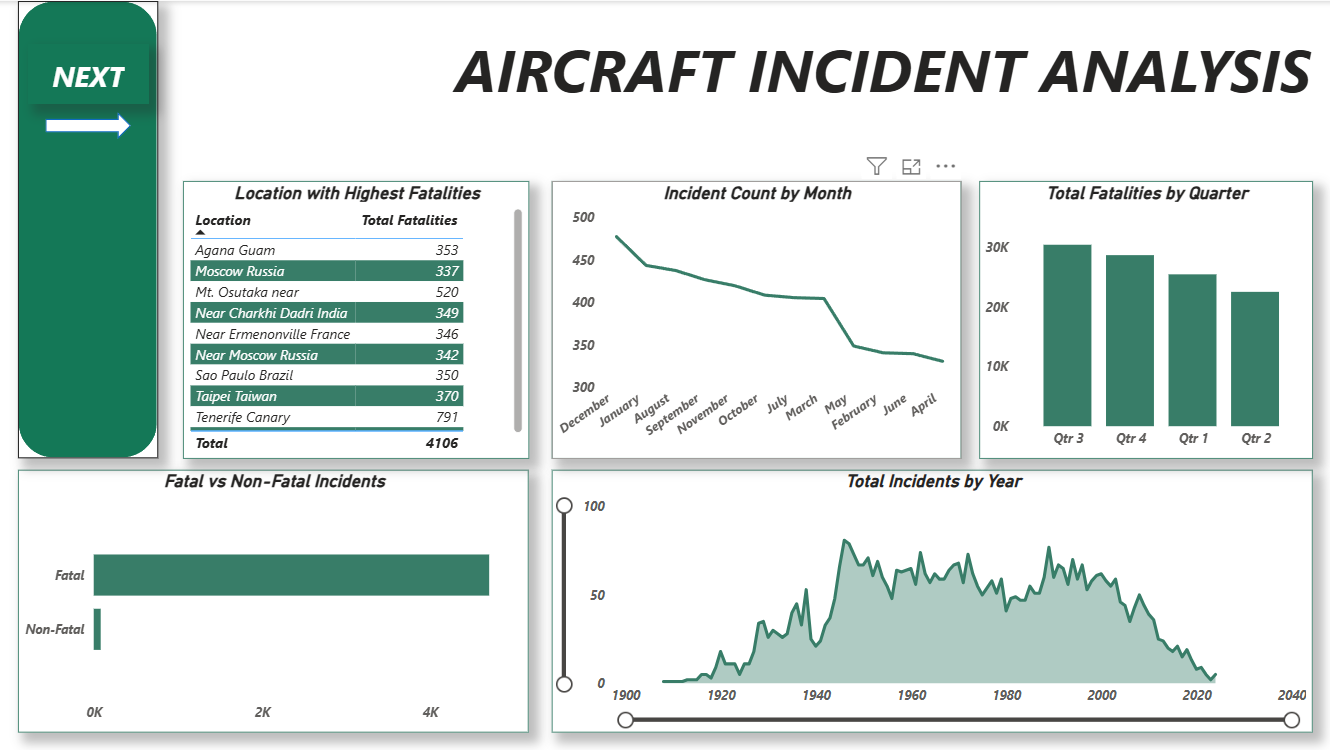

The page's visual inventory and layout, read from the dashboard file:
{"tool":"powerbi","page":{"name":"Dashboard 1","canvas":[1280,720],"ordinal":0},"visuals":[{"type":"lineChart","fields":{"Category":["air_crashes aircraft_incidents.Year"],"Y":["Aircraft_Incidents.Total Incidents"]},"box":[530.9,448.9,729.8,252.1],"z":0},{"type":"lineChart","fields":{"Y":["Aircraft_Incidents.Incident Count"],"Category":["Aircraft_Incidents.Month"]},"box":[530.9,172.2,392.6,266.5],"z":1000},{"type":"columnChart","fields":{"Category":["Aircraft_Incidents.Quarter"],"Y":["Aircraft_Incidents.Total Fatalities"]},"box":[940.9,172.2,319.8,266.5],"z":2000},{"type":"barChart","title":"Fatal vs Non-Fatal Incidents","fields":{"Category":["Aircraft_Incidents.Incident_Type"],"Y":["Aircraft_Incidents.Incident Count"]},"box":[19.5,448.9,489.9,252.1],"z":3000},{"type":"textbox","box":[417.2,21.5,863,97.4],"z":4000},{"type":"tableEx","title":"Location with Highest Fatalities","fields":{"Values":["Aircraft_Incidents.Location","Aircraft_Incidents.Total Fatalities"]},"box":[177.3,172.2,332.1,266.5],"z":5000},{"type":"shape","box":[19.5,0,134.3,438.7],"z":6000},{"type":"actionButton","title":"NEXT","box":[28.7,41,115.8,58.4],"z":7000},{"type":"shape","box":[46.1,106.6,82,25.6],"z":8000}]}

Visuals, with their boxes in screenshot pixels (x1, y1, x2, y2), scaled from the page's 1280x720 canvas onto the 1330x750 screenshot:
lineChart - air_crashes aircraft_incidents.Year x Aircraft_Incidents.Total Incidents: bbox(552, 468, 1310, 730)
lineChart - Aircraft_Incidents.Incident Count x Aircraft_Incidents.Month: bbox(552, 179, 960, 457)
columnChart - Aircraft_Incidents.Quarter x Aircraft_Incidents.Total Fatalities: bbox(978, 179, 1310, 457)
"Fatal vs Non-Fatal Incidents" barChart: bbox(20, 468, 529, 730)
textbox: bbox(433, 22, 1329, 124)
"Location with Highest Fatalities" tableEx: bbox(184, 179, 529, 457)
shape: bbox(20, 0, 160, 457)
"NEXT" actionButton: bbox(30, 43, 150, 104)
shape: bbox(48, 111, 133, 138)
